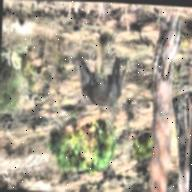boar: (71, 40, 134, 117)
